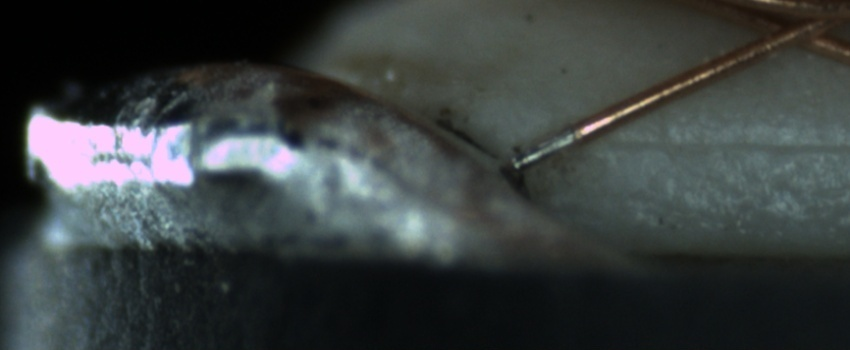CL: (728, 5, 850, 62)
DL: (609, 107, 843, 178)
TS: (501, 126, 577, 171)
